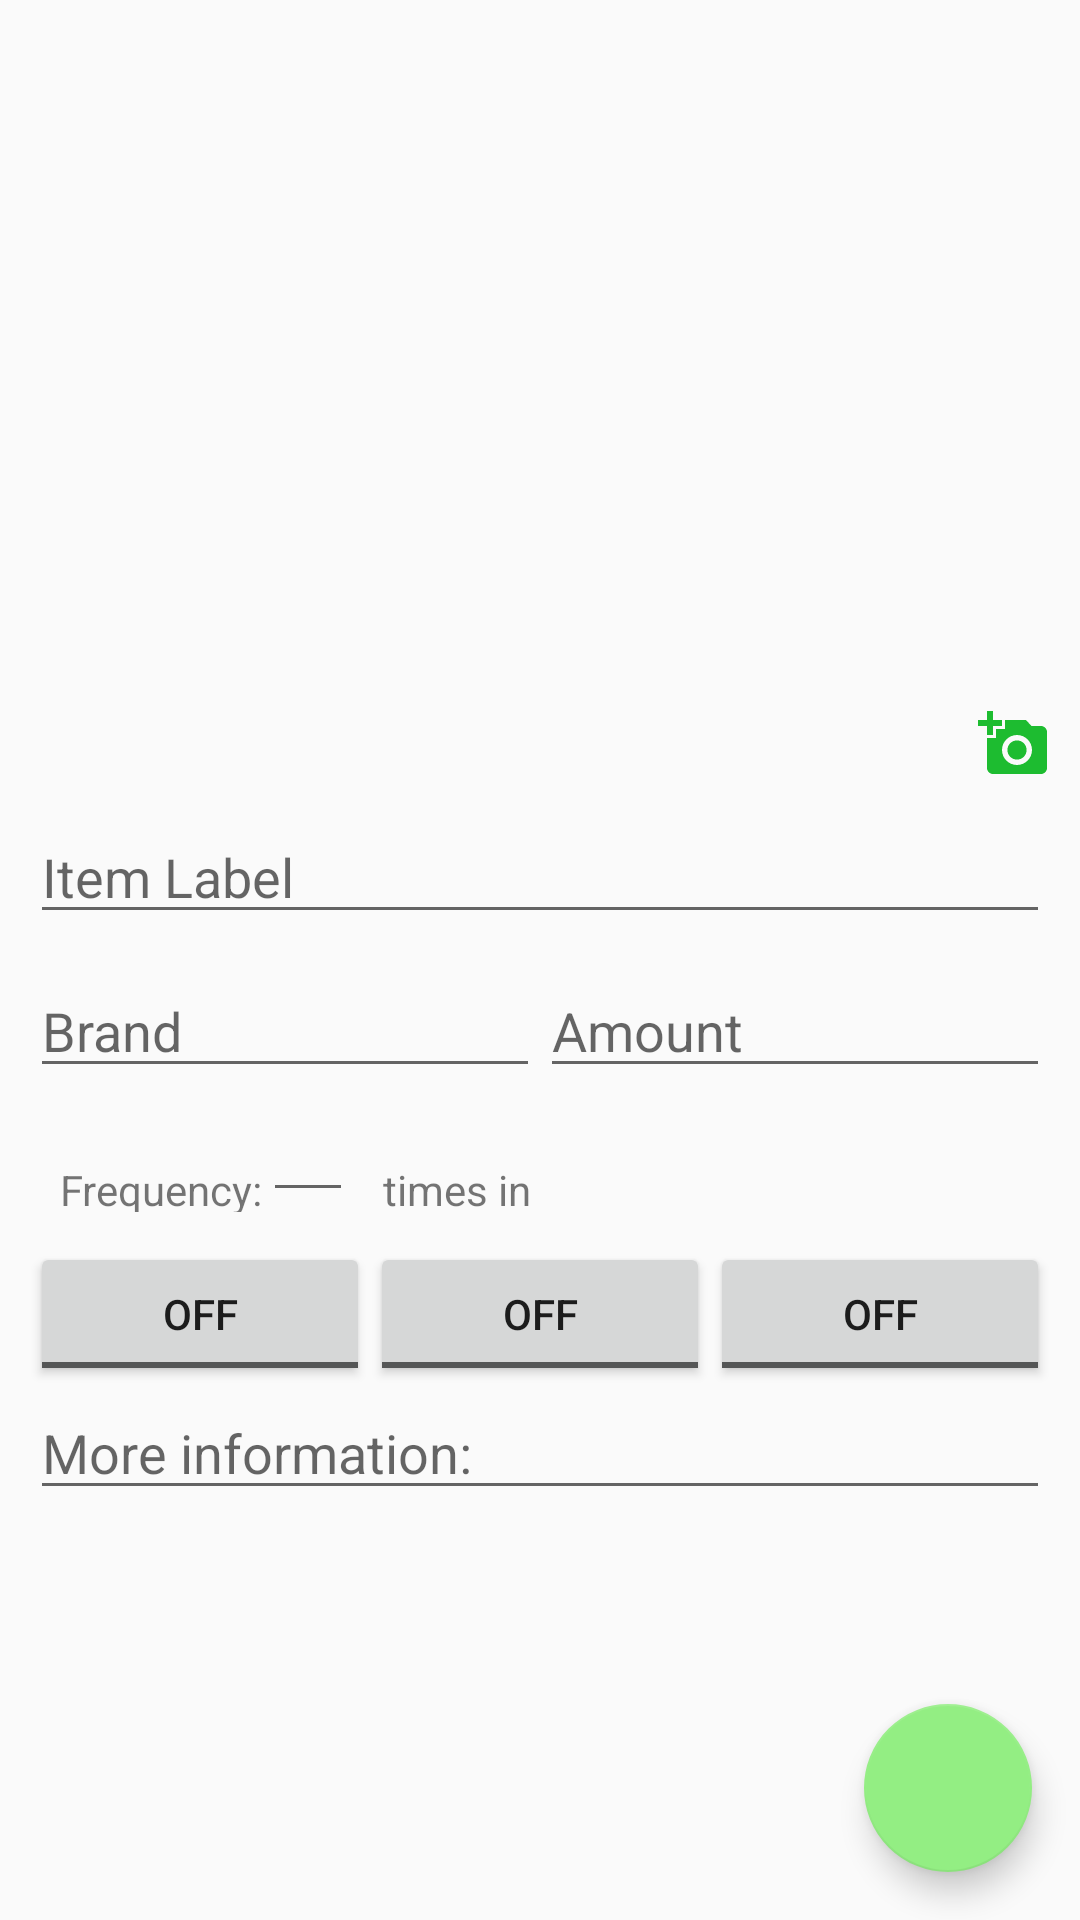

Icons on this 1080 x 1920 Android screen, each with its box as (x1, y1, x2, y2):
add photo: (978, 711, 1047, 774)
